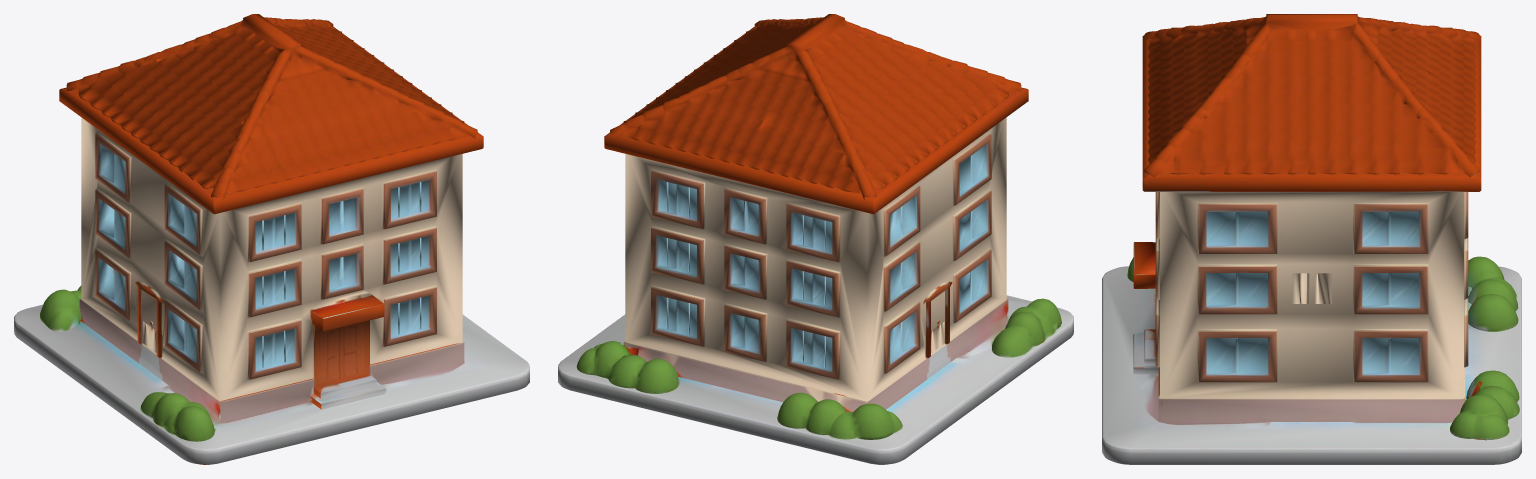
Rendered from gedung.glb.
The picture shows the model from 3 angles, left to right: view 1: azimuth 30°, elevation 25°; view 2: azimuth 150°, elevation 25°; view 3: azimuth 270°, elevation 25°; orthographic projection. The views are drawn at different scales.
Visible parts, largest first — view 1: tripo_node_4c26c99e; view 2: tripo_node_4c26c99e; view 3: tripo_node_4c26c99e.
Boxes of the visible parts, <box> form: tripo_node_4c26c99e: <box>14,14,529,464</box>; tripo_node_4c26c99e: <box>558,14,1073,464</box>; tripo_node_4c26c99e: <box>1102,14,1521,464</box>.
Bounding box in the file's own units: 1 × 0.9123 × 0.9671.
Materials: 1 (1 with a texture image).
